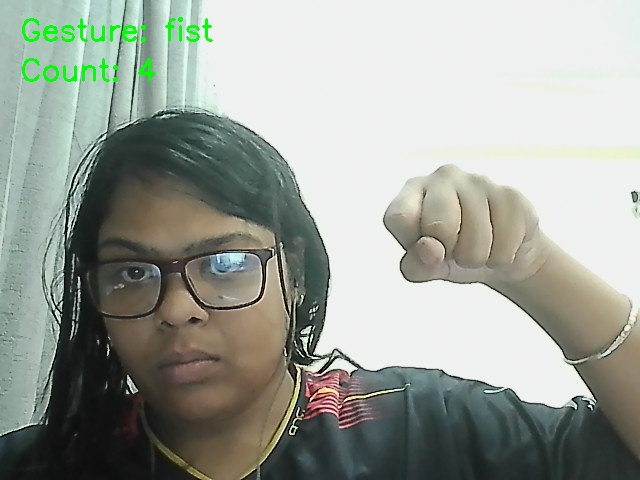fist: (354, 128, 577, 317)
